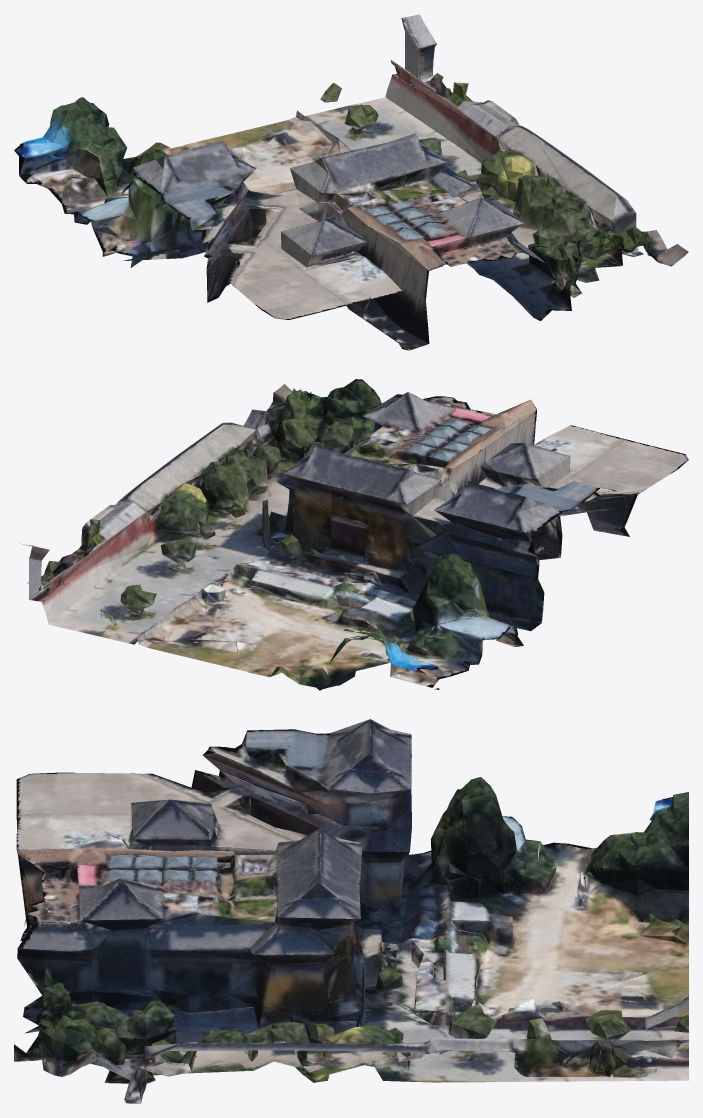
3 renders of one model, top to bottom at view 1: azimuth 30°, elevation 25°; view 2: azimuth 150°, elevation 25°; view 3: azimuth 270°, elevation 25°, orthographic. The views are drawn at different scales.
Size of the model in its own units: 99.05 by 29.55 by 112.
Materials: 1 (1 with a texture image).
